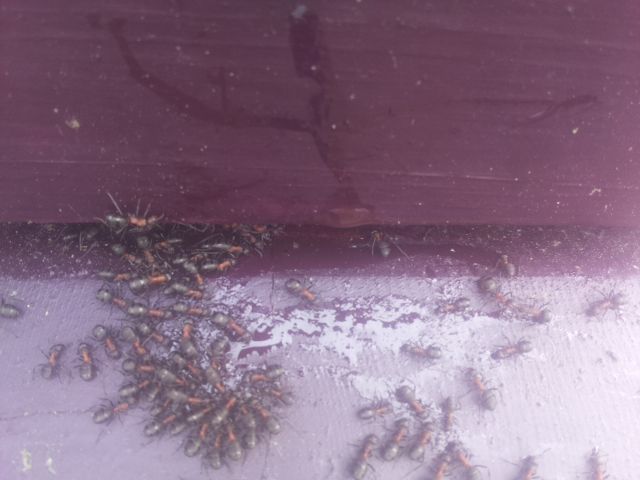ant: (85, 371, 151, 434), (193, 397, 243, 480), (84, 281, 154, 325), (471, 270, 527, 320), (136, 395, 193, 441), (179, 407, 222, 467), (200, 305, 259, 347), (345, 422, 387, 480), (240, 393, 288, 441), (278, 269, 324, 312), (378, 416, 413, 468), (34, 338, 71, 385), (392, 380, 431, 423), (467, 366, 500, 414), (99, 210, 165, 234), (89, 320, 124, 363), (488, 334, 532, 364), (116, 325, 155, 358), (406, 420, 434, 465), (503, 451, 542, 480), (451, 446, 484, 480), (74, 344, 101, 383), (366, 226, 396, 261), (591, 288, 627, 317), (399, 339, 443, 362), (177, 316, 201, 358), (580, 445, 607, 480), (203, 361, 229, 397), (0, 286, 24, 324), (437, 294, 472, 317), (247, 364, 286, 383), (356, 401, 394, 418), (267, 387, 293, 407)
